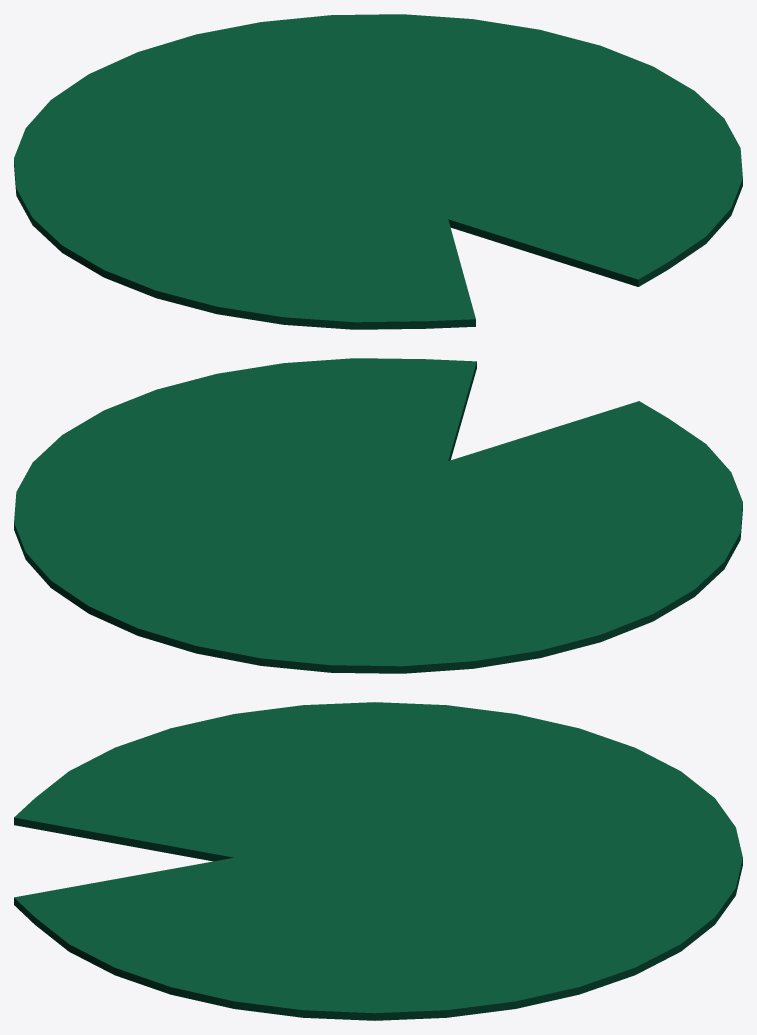
The model's file is reginha.fbx.
The picture shows the model from 3 angles, top to bottom: view 1: azimuth 30°, elevation 25°; view 2: azimuth 150°, elevation 25°; view 3: azimuth 270°, elevation 25°; orthographic projection.
Parts seen in each view (by area): view 1: Circle; view 2: Circle; view 3: Circle.
Boxes of the visible parts, left/top/right/bottom form: Circle: left=14, top=14, right=742, bottom=329; Circle: left=14, top=358, right=742, bottom=673; Circle: left=14, top=702, right=742, bottom=1020.
Size of the model in its own units: 66.75 by 0.7618 by 66.11.
